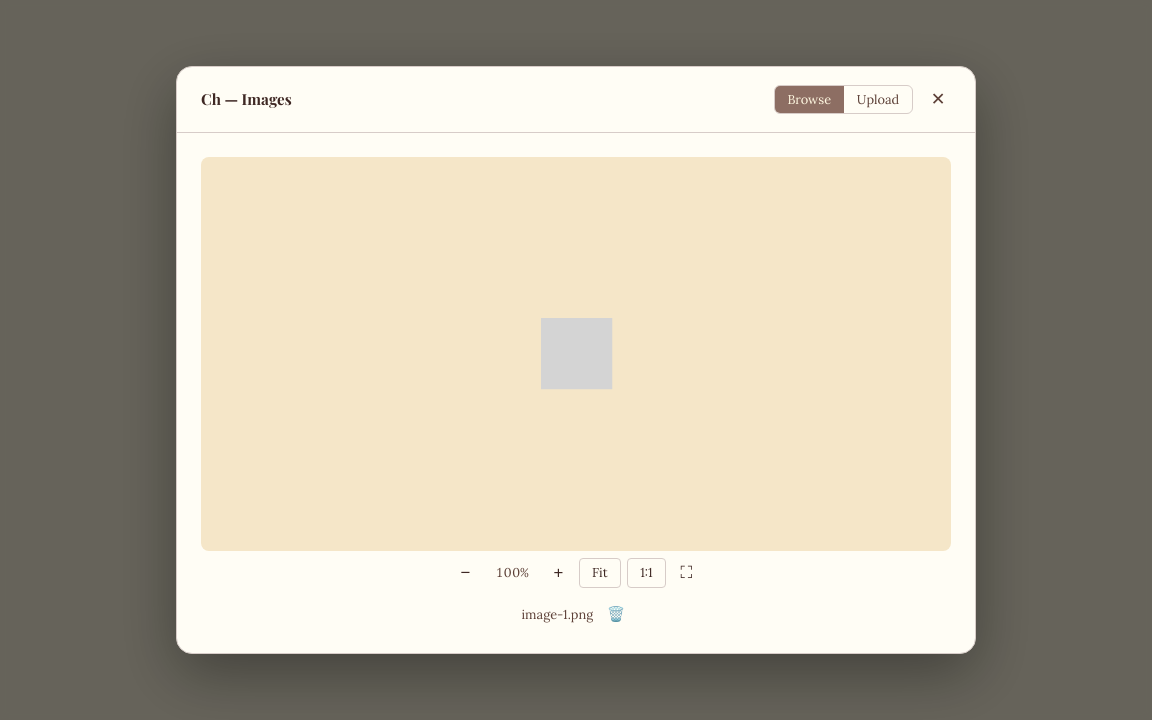
ChapterImageViewer › reports a failed delete and keeps the confirmation open
The image size is (1152, 720).
expect the text "image-1.png" is shown: met, box x1=522 y1=606 x2=593 y2=623
Click the button titled "Delete image": (616, 615) x1=601 y1=600 x2=630 y2=629
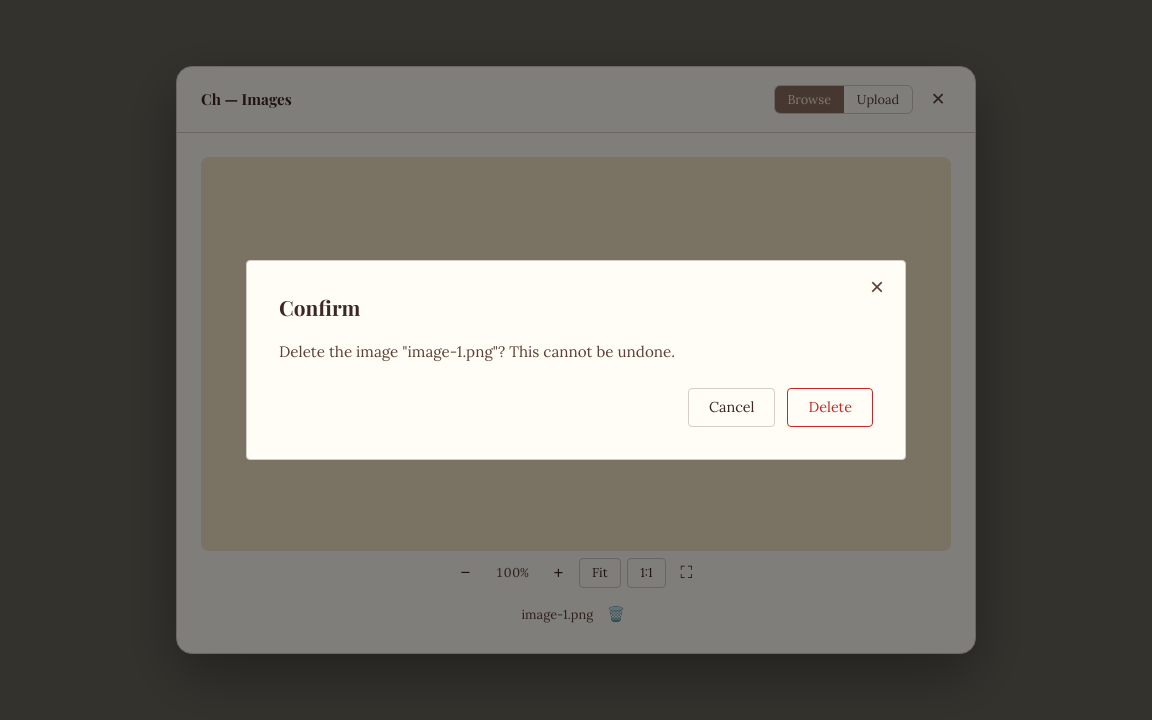
Click the button "Delete": (830, 407) x1=788 y1=388 x2=873 y2=427
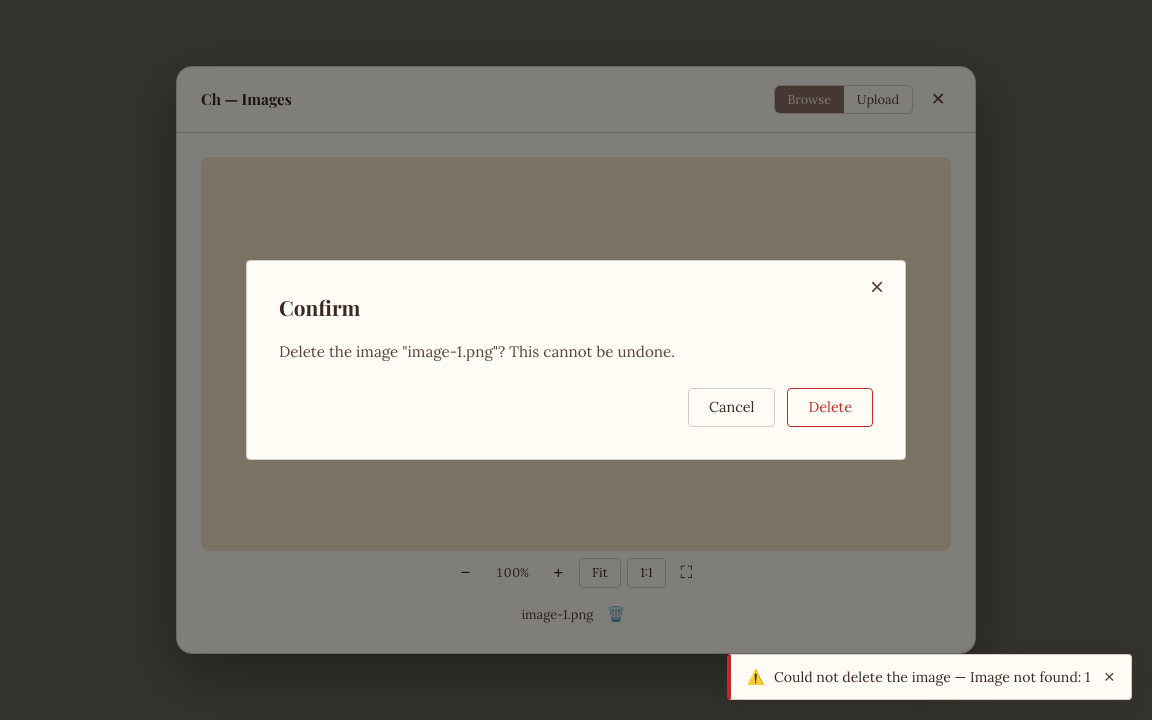
expect the text "Delete the image \"image-1.png\"? This cannot be undone." is shown: met, box x1=279 y1=342 x2=675 y2=361
expect the button "Delete" is enabled: met, box x1=788 y1=388 x2=873 y2=427
expect the message shows "Could not delete the image — Image not found: 1": met, box x1=774 y1=668 x2=1090 y2=686
